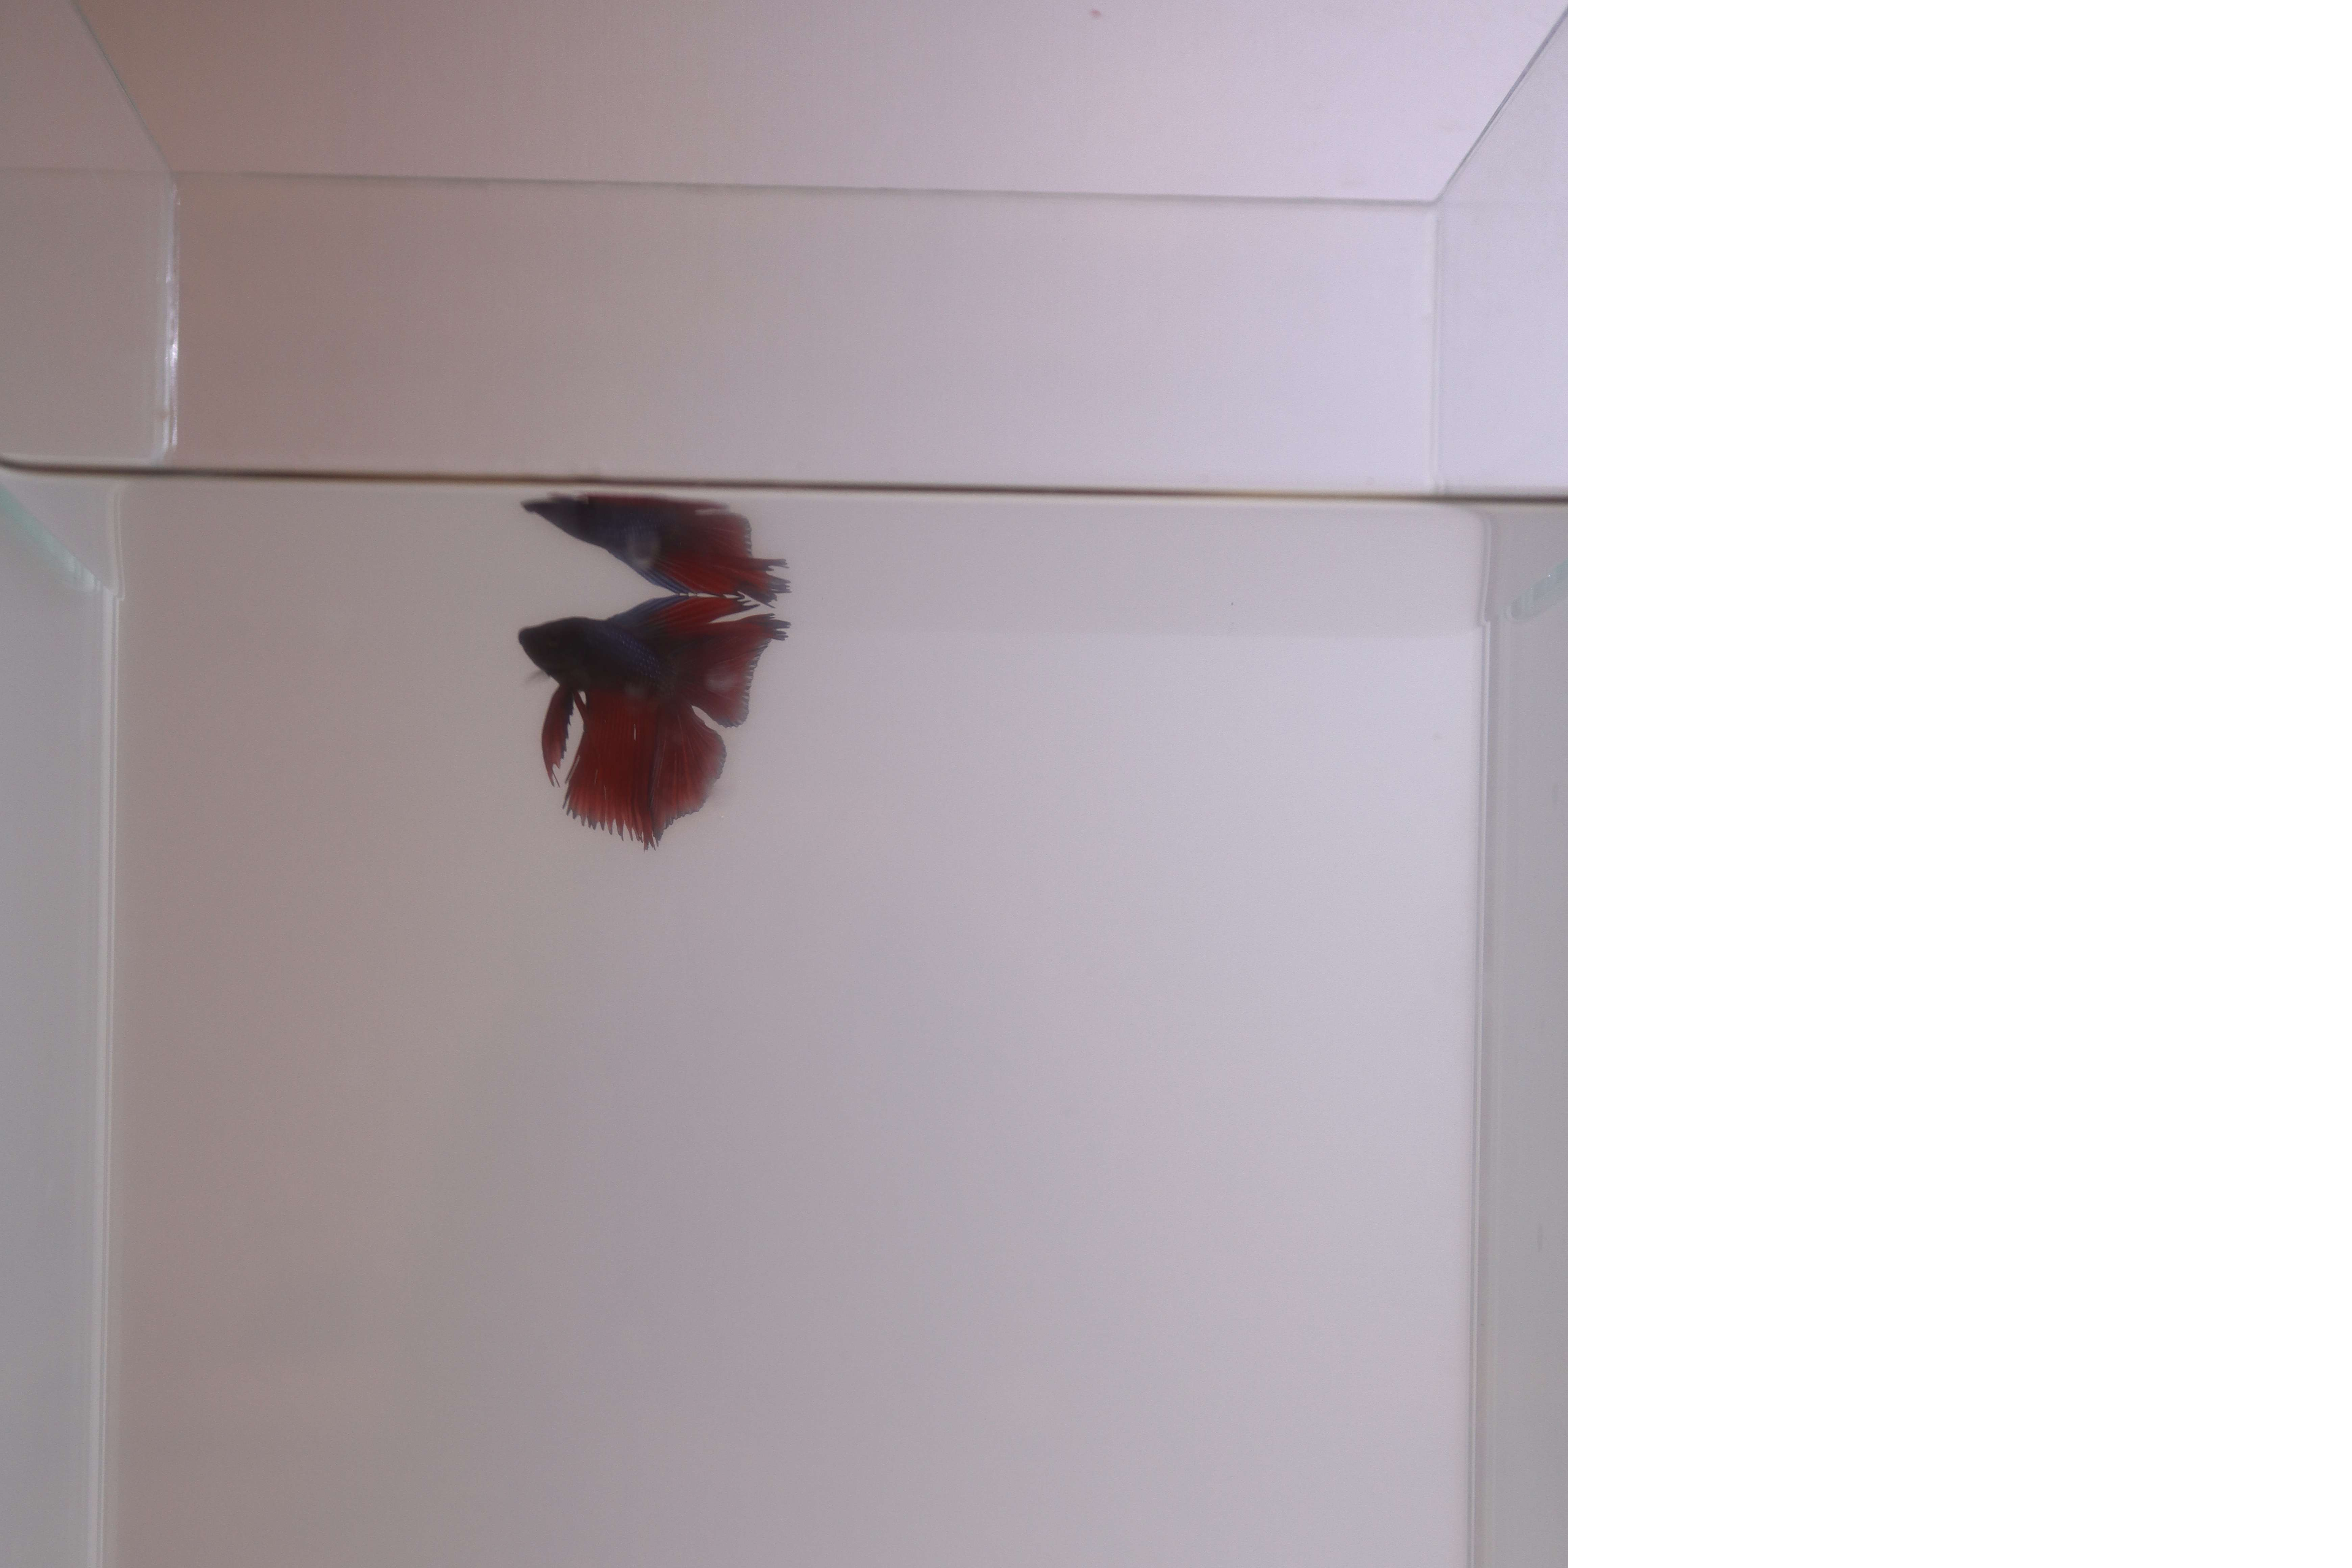fish: (511, 595, 795, 850)
